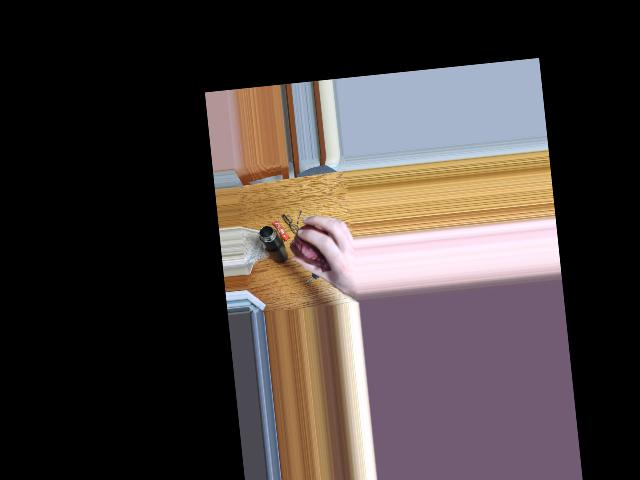onion: (292, 224, 330, 270)
